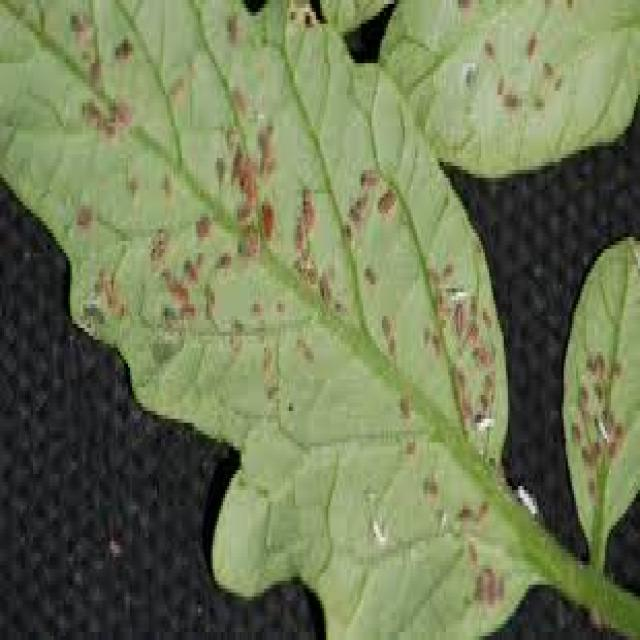aphid: (372, 174, 402, 225), (108, 20, 138, 71), (70, 186, 95, 241), (297, 174, 318, 237), (225, 75, 252, 123), (256, 190, 277, 249), (159, 63, 188, 103), (82, 47, 110, 87), (419, 462, 442, 510), (221, 0, 243, 47), (120, 158, 142, 202), (178, 245, 200, 288), (353, 158, 382, 190), (460, 529, 483, 569), (448, 292, 467, 340), (357, 253, 380, 292), (211, 237, 233, 277), (498, 83, 524, 115), (157, 300, 180, 336), (520, 20, 539, 63), (452, 494, 475, 529), (374, 300, 394, 340), (155, 158, 173, 202), (79, 95, 101, 130), (174, 292, 198, 324), (394, 383, 413, 423), (489, 59, 506, 103), (479, 28, 498, 67), (590, 340, 607, 383), (337, 213, 357, 249), (477, 296, 495, 336), (401, 427, 419, 466), (436, 249, 456, 284), (262, 371, 281, 407), (580, 470, 601, 502), (450, 360, 469, 395), (382, 324, 398, 363), (566, 407, 582, 446), (547, 67, 566, 99), (328, 292, 349, 320), (246, 288, 264, 320), (473, 490, 489, 525), (603, 431, 619, 466), (529, 83, 545, 118), (270, 288, 287, 320), (417, 316, 432, 352), (427, 320, 442, 356), (535, 51, 553, 75)
